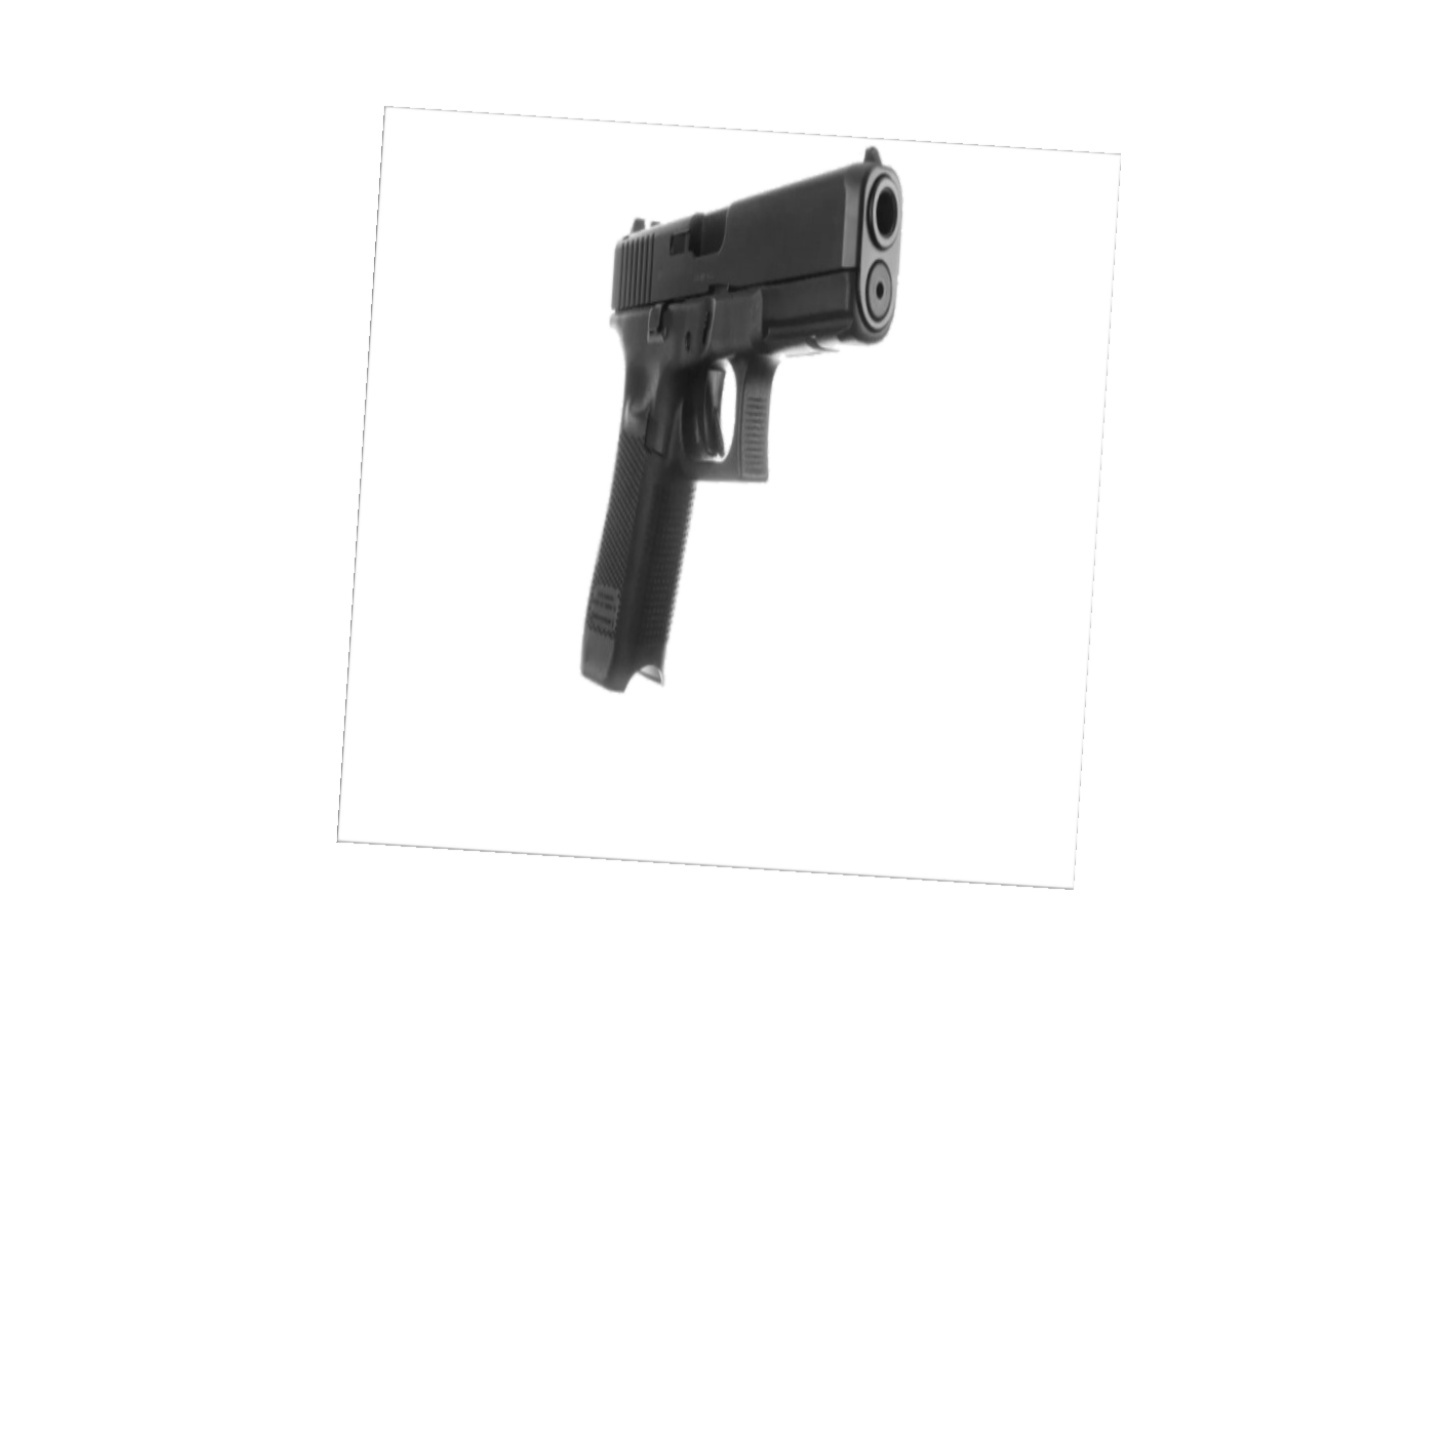gun: (573, 142, 913, 697)
